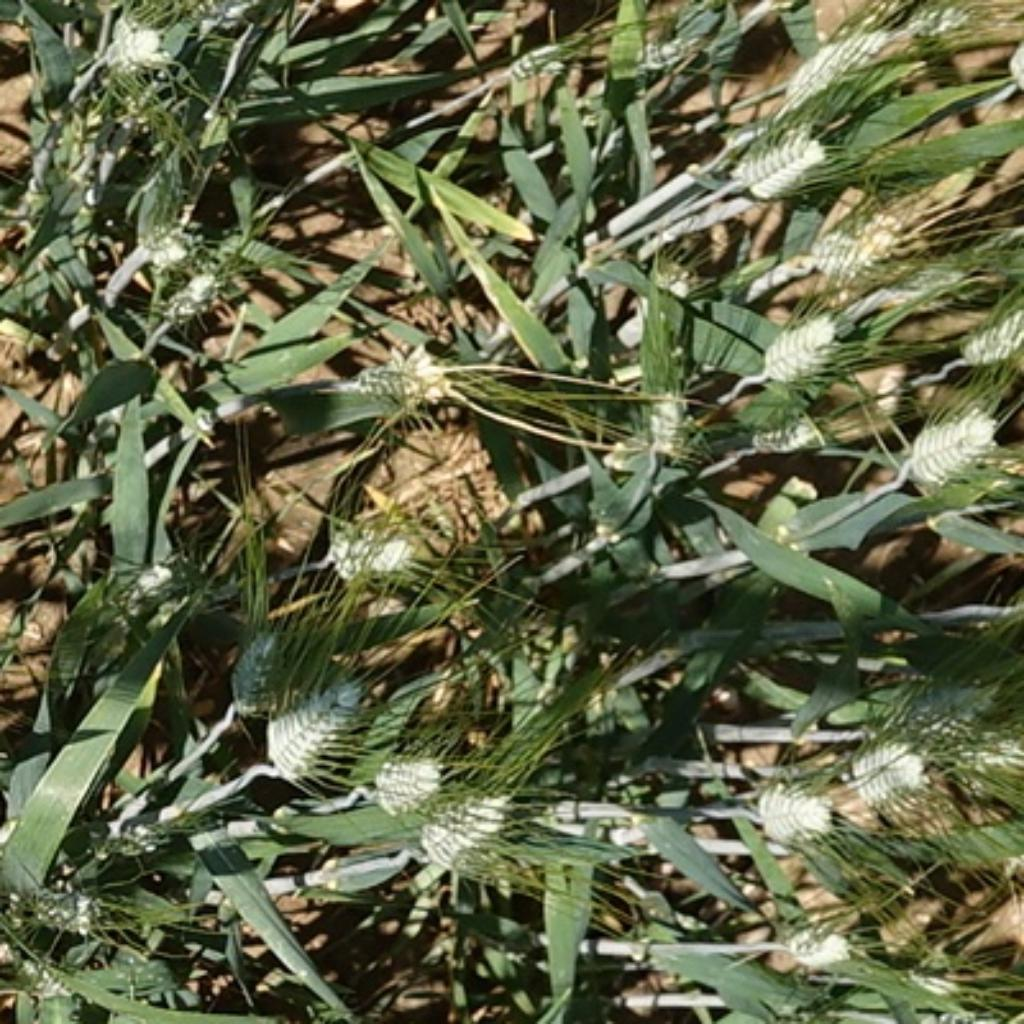0-0: (793, 188, 924, 291), (207, 614, 317, 734), (256, 663, 366, 770), (778, 25, 900, 120), (319, 512, 452, 596), (409, 770, 517, 870), (112, 522, 204, 634), (347, 336, 467, 418), (609, 232, 711, 327), (839, 721, 939, 811), (894, 406, 1003, 488), (724, 115, 832, 194), (2, 860, 110, 934), (143, 250, 232, 337), (750, 299, 844, 381), (762, 898, 862, 970), (616, 386, 707, 465), (748, 776, 841, 850), (120, 197, 204, 273), (479, 41, 597, 95), (627, 29, 720, 93), (366, 742, 448, 806), (952, 714, 1024, 785), (99, 12, 181, 71), (957, 297, 1024, 368), (741, 417, 835, 463)
